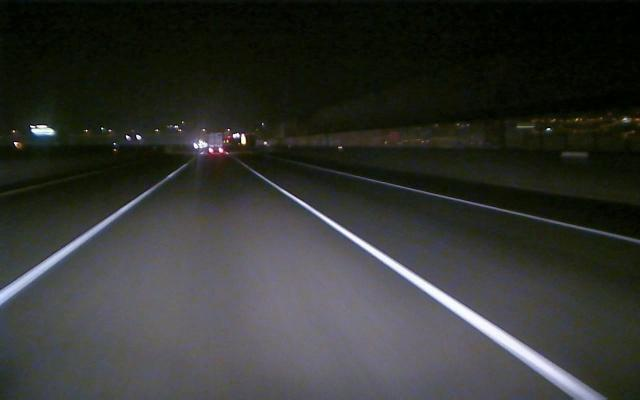lane: (257, 174, 603, 395), (3, 173, 173, 304), (362, 176, 640, 245)
